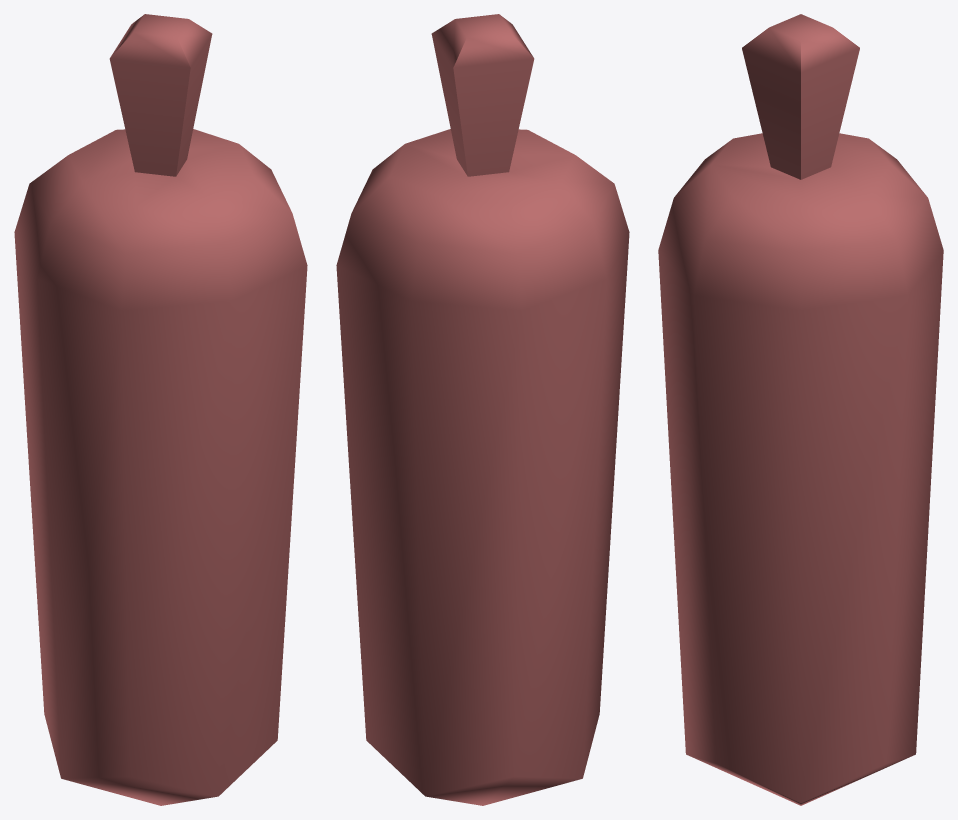
Rendered from Zucchini.fbx.
3 renders of one model, left to right at view 1: azimuth 30°, elevation 25°; view 2: azimuth 150°, elevation 25°; view 3: azimuth 270°, elevation 25°, orthographic.
Visible parts, largest first — view 1: Zucchini; view 2: Zucchini; view 3: Zucchini.
Part boxes in pixels (x1,y1,x2,y2): Zucchini: (14,14,307,805); Zucchini: (336,14,629,805); Zucchini: (658,14,943,805).
Size of the model in its own units: 45.05 by 136 by 45.05.
